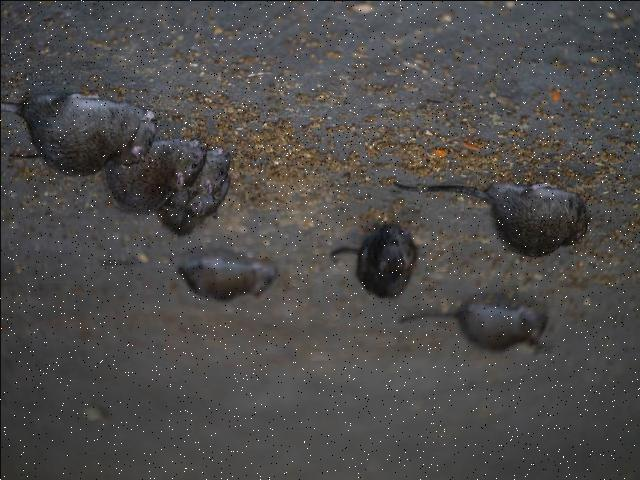Tikus: (392, 178, 586, 256), (0, 94, 158, 174), (100, 141, 208, 213), (396, 301, 546, 352), (155, 150, 231, 235), (328, 226, 418, 296), (172, 253, 278, 302)
